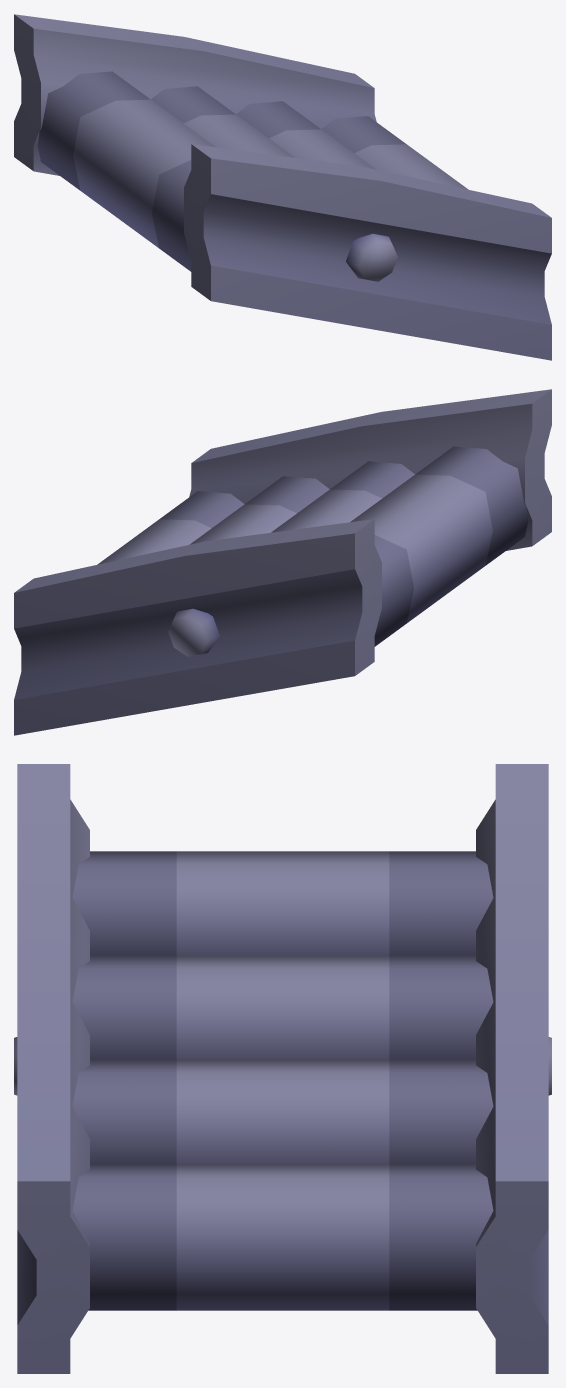
Rendered from conveyor-bars-stripe-high-slope.glb.
3 renders of one model, top to bottom at view 1: azimuth 30°, elevation 25°; view 2: azimuth 150°, elevation 25°; view 3: azimuth 270°, elevation 25°, orthographic. The views are drawn at different scales.
Parts seen in each view (by area): view 1: conveyor-bars-stripe-high-slope; view 2: conveyor-bars-stripe-high-slope; view 3: conveyor-bars-stripe-high-slope.
Part boxes in pixels (x1,y1,x2,y2): conveyor-bars-stripe-high-slope: [14, 14, 551, 360]; conveyor-bars-stripe-high-slope: [14, 389, 551, 735]; conveyor-bars-stripe-high-slope: [14, 764, 551, 1373].
Bounding box in the file's own units: 1 × 0.8 × 1.01.
